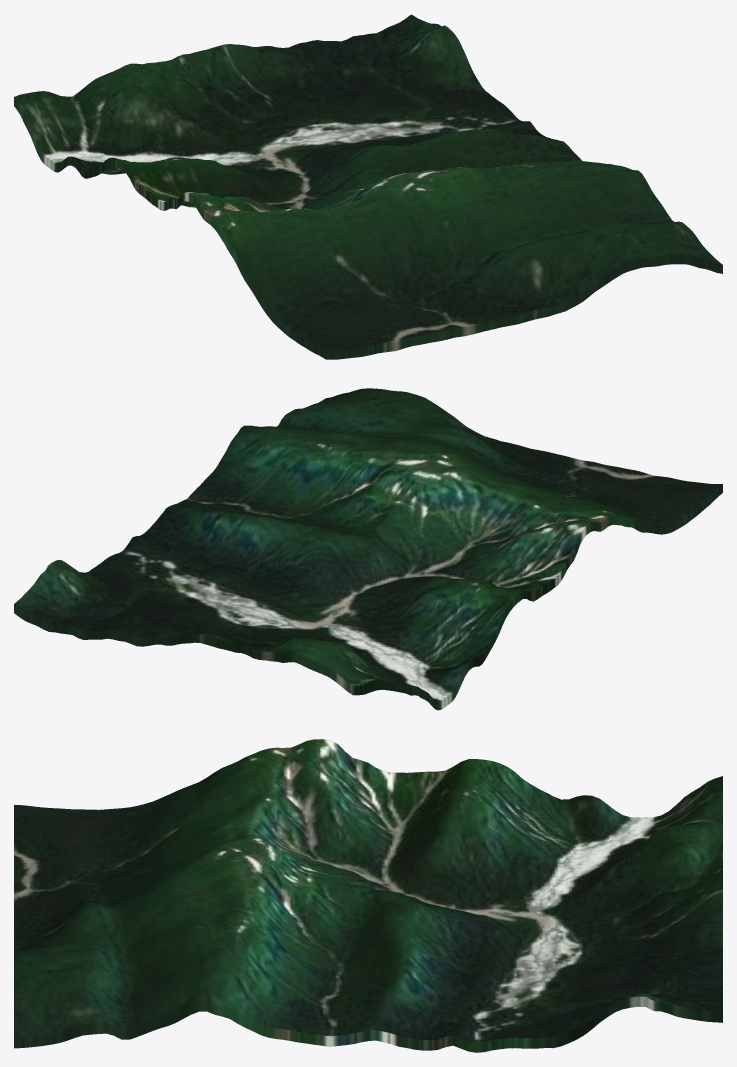
3 views of the same model, one above another, from view 1: azimuth 30°, elevation 25°; view 2: azimuth 150°, elevation 25°; view 3: azimuth 270°, elevation 25° (orthographic). The views are drawn at different scales.
Parts seen in each view (by area): view 1: tile; view 2: tile; view 3: tile.
Part boxes in pixels (bbox=[...]): tile: bbox=[14, 14, 722, 359]; tile: bbox=[14, 388, 722, 710]; tile: bbox=[14, 739, 722, 1052].
Bounding box in the file's own units: 4050 × 799 × 5505.
Materials: 1 (1 with a texture image).
